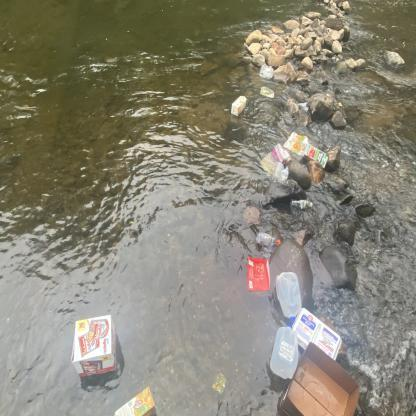trash: (276, 339, 362, 416), (70, 313, 121, 384), (287, 306, 344, 366), (268, 321, 300, 381), (272, 269, 303, 324), (112, 383, 161, 416), (242, 256, 274, 296), (260, 142, 288, 175), (282, 130, 310, 160), (301, 142, 329, 170), (253, 232, 283, 248), (288, 194, 314, 212), (230, 94, 248, 118), (257, 63, 275, 80), (271, 161, 284, 184), (278, 166, 290, 186), (294, 100, 310, 113), (260, 244, 274, 258), (281, 148, 292, 164)
